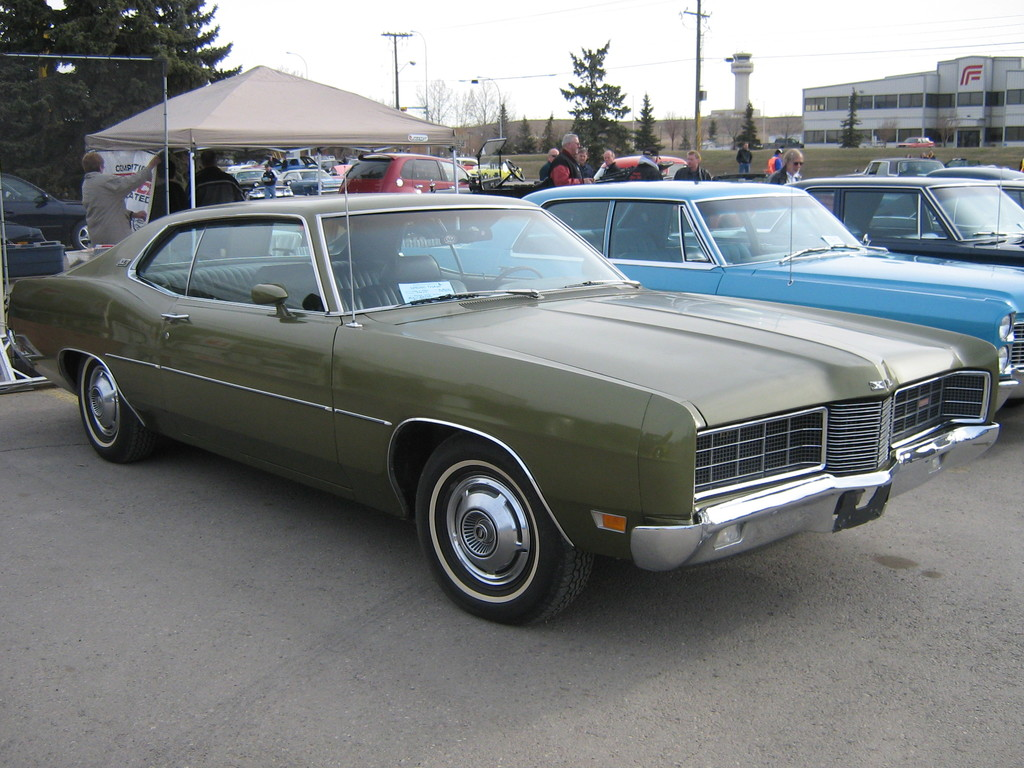mobil: (1, 190, 1024, 659)
